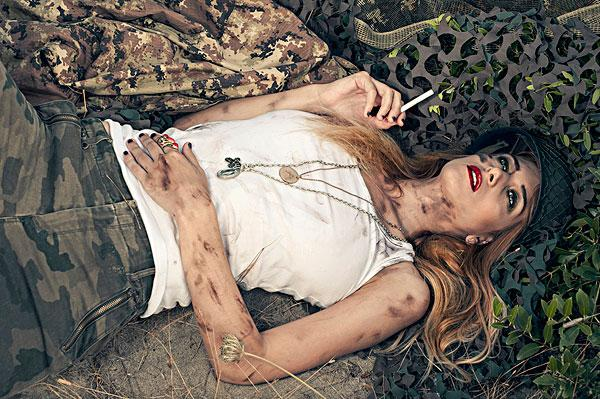smoke: (396, 88, 435, 115)
